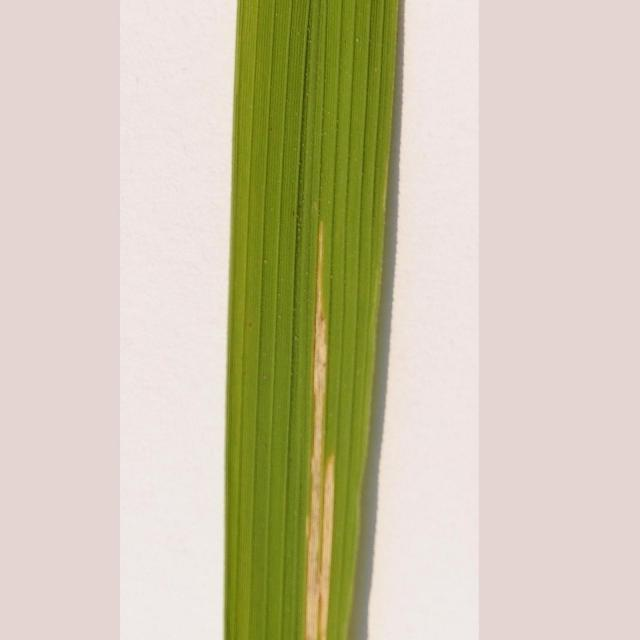leaf blight: (278, 222, 360, 640)
